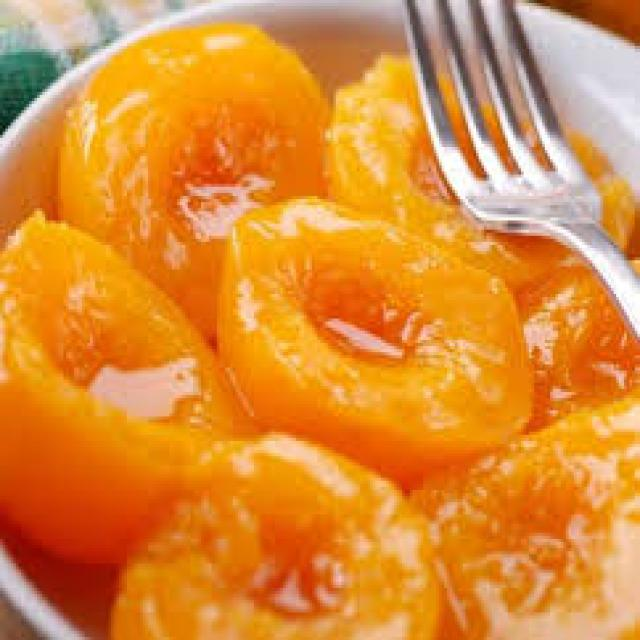Organik: (224, 187, 552, 450), (130, 405, 433, 639), (0, 211, 222, 524), (338, 28, 616, 272), (82, 24, 316, 286), (441, 378, 640, 630)
